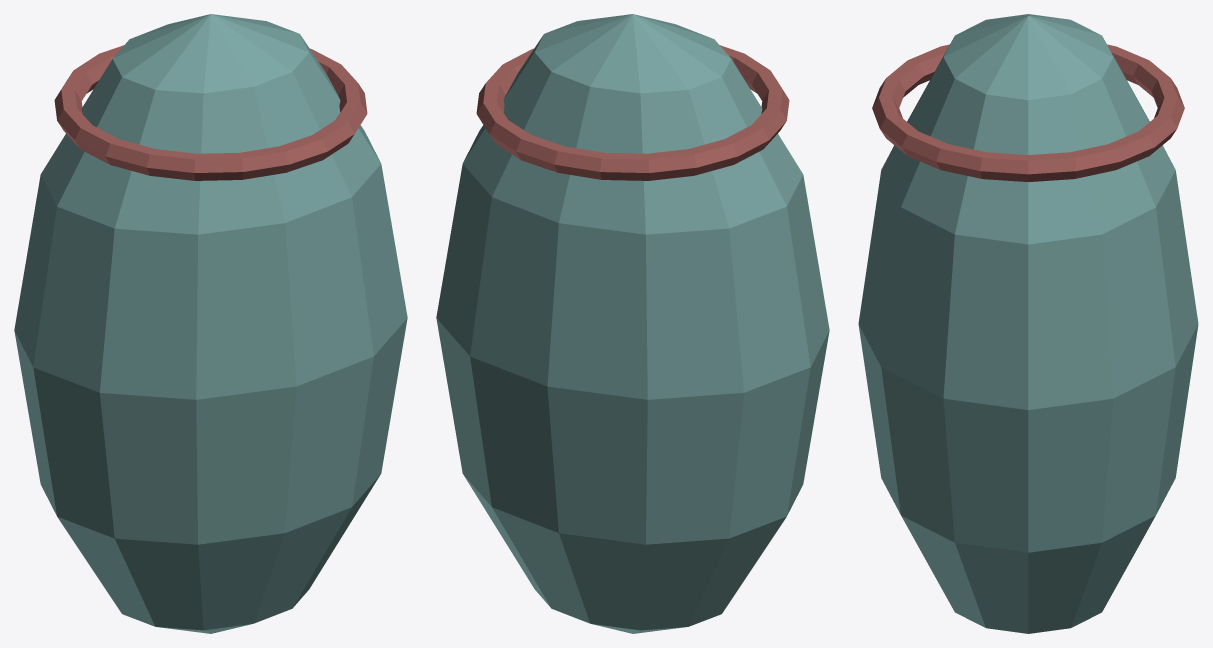
File: PR-POUCH.glb
3 renders of one model, left to right at view 1: azimuth 30°, elevation 25°; view 2: azimuth 150°, elevation 25°; view 3: azimuth 270°, elevation 25°, orthographic.
Parts seen in each view (by area): view 1: cloth_packet, tie; view 2: cloth_packet, tie; view 3: cloth_packet, tie.
Boxes of the visible parts, x1,y1,x2,y2 form: cloth_packet: (14, 14, 407, 633); tie: (54, 45, 367, 180); cloth_packet: (436, 14, 829, 633); tie: (476, 45, 789, 180); cloth_packet: (858, 14, 1198, 633); tie: (872, 44, 1184, 181).
Bounding box in the file's own units: 0.12 × 0.2 × 0.1.
